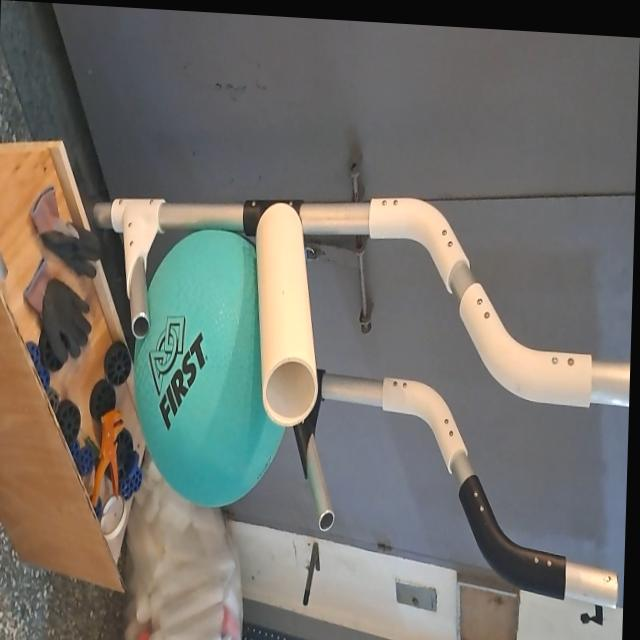ALGAE: (124, 214, 297, 515)
CORAL: (248, 200, 323, 428)
